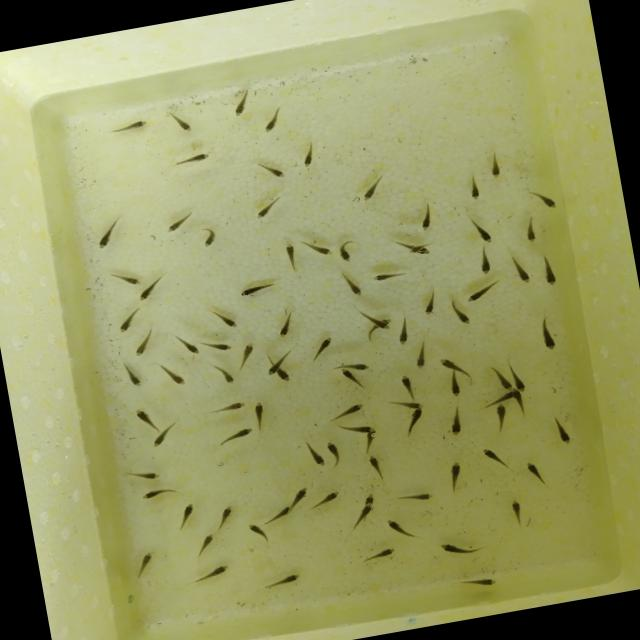fingerling: (532, 314, 564, 354), (91, 219, 125, 255), (356, 170, 392, 204), (190, 561, 231, 590), (528, 183, 567, 213), (234, 274, 276, 300), (547, 413, 578, 448), (212, 426, 255, 451), (110, 115, 154, 139), (254, 105, 286, 138), (246, 197, 282, 226), (452, 570, 497, 593), (162, 103, 194, 135), (386, 512, 416, 546), (126, 550, 156, 583), (227, 86, 254, 122), (323, 402, 367, 424), (438, 536, 478, 560), (162, 207, 195, 235), (169, 150, 214, 170), (129, 403, 160, 432), (358, 307, 391, 334), (445, 458, 468, 496), (171, 501, 199, 532), (482, 147, 508, 180), (296, 140, 324, 170), (381, 395, 425, 414), (261, 570, 302, 590), (309, 335, 336, 365), (122, 462, 160, 483), (461, 282, 497, 304), (445, 403, 469, 436), (198, 220, 225, 249), (414, 198, 437, 232), (408, 341, 433, 372), (261, 157, 289, 184), (338, 418, 374, 439), (304, 438, 328, 469), (437, 351, 469, 374), (462, 172, 484, 205), (313, 488, 346, 510), (142, 485, 180, 504), (304, 235, 334, 259), (132, 278, 162, 302), (162, 361, 188, 388), (394, 490, 435, 507), (322, 436, 345, 466), (342, 272, 366, 300), (364, 453, 384, 486), (474, 216, 494, 248), (524, 457, 546, 486), (290, 484, 314, 510), (472, 250, 494, 278), (393, 317, 412, 349), (334, 358, 372, 374), (481, 444, 506, 468), (506, 498, 526, 528), (181, 332, 204, 358), (512, 258, 533, 286), (540, 256, 558, 288), (214, 310, 239, 333), (194, 534, 216, 560), (213, 398, 248, 414), (446, 374, 466, 402), (494, 364, 514, 392), (264, 504, 292, 524), (397, 368, 415, 399), (111, 269, 140, 288), (237, 340, 256, 369), (216, 360, 235, 389), (149, 426, 176, 446), (114, 314, 138, 336), (369, 268, 406, 282), (335, 236, 354, 263), (364, 546, 396, 562), (282, 242, 300, 270), (274, 314, 293, 340), (509, 366, 526, 394), (208, 336, 234, 354), (123, 364, 141, 390), (451, 307, 474, 327), (130, 338, 154, 357), (408, 408, 424, 436), (246, 519, 268, 539), (216, 506, 235, 529), (420, 294, 438, 318), (493, 402, 508, 430), (354, 502, 373, 524), (522, 220, 538, 246), (252, 400, 266, 427), (486, 391, 514, 404), (338, 366, 356, 386), (512, 386, 524, 414), (361, 430, 378, 449), (407, 242, 431, 254), (264, 360, 280, 376), (276, 368, 292, 382), (362, 492, 378, 506)
